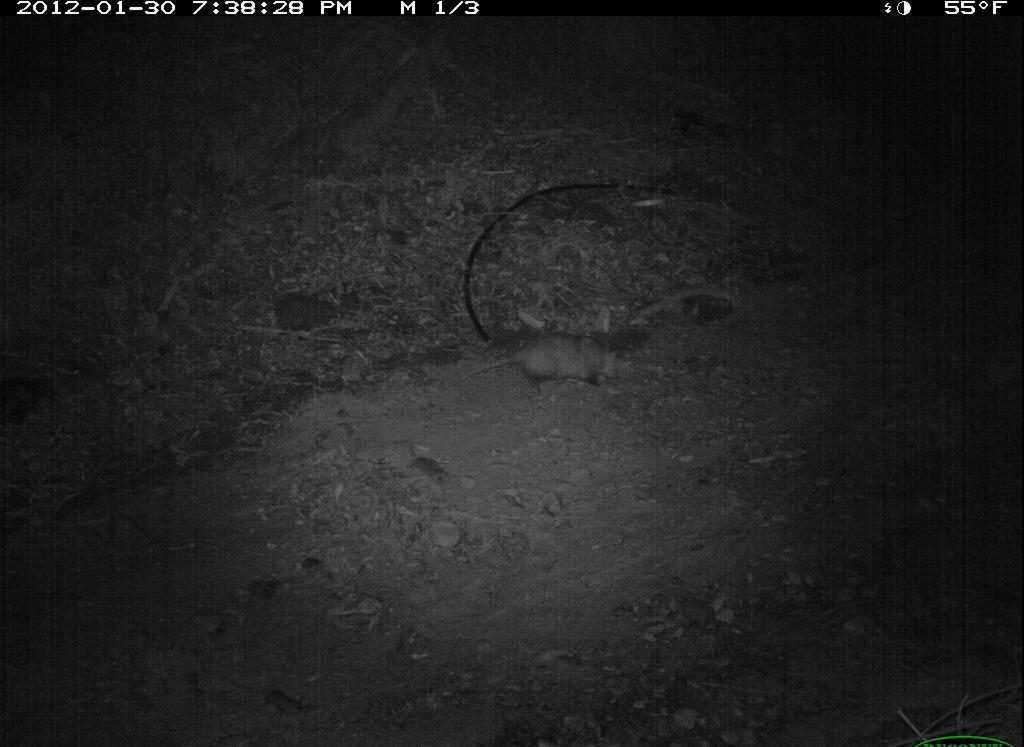opossum: (460, 318, 674, 409)
